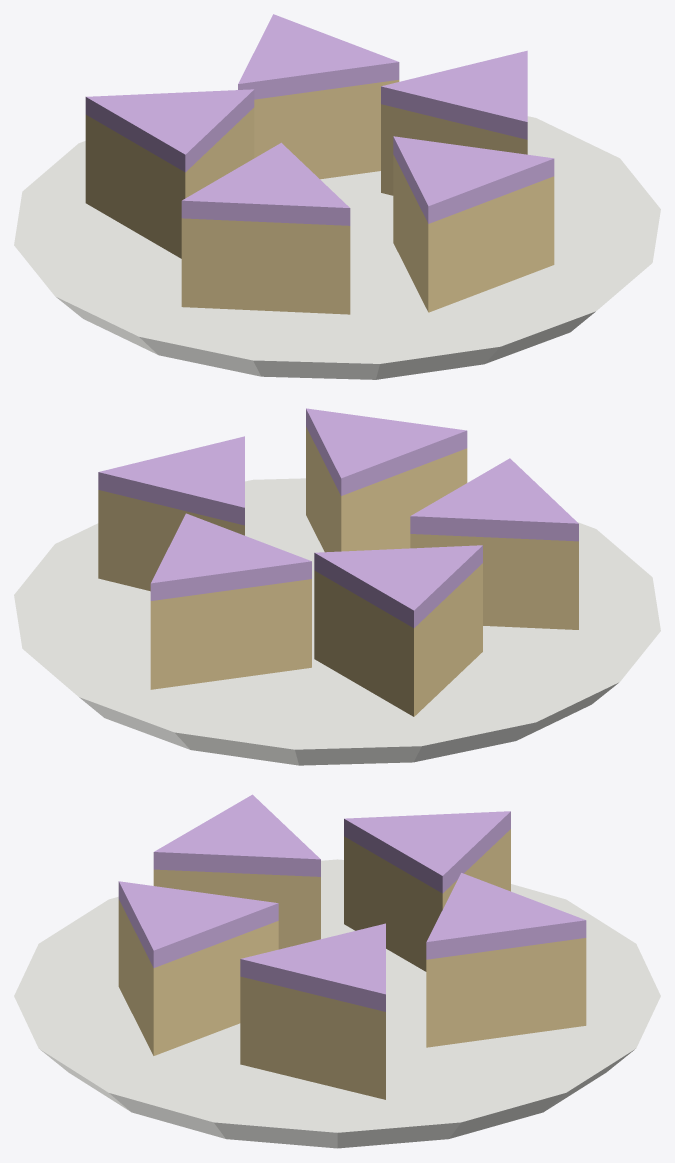
The model's file is cake_slices.glb.
The picture shows the model from 3 angles, top to bottom: view 1: azimuth 30°, elevation 25°; view 2: azimuth 150°, elevation 25°; view 3: azimuth 270°, elevation 25°; orthographic projection.
Visible parts, largest first — view 1: plate_plate_white, slice_sponge (×5), cream_frosting_lilac (×5); view 2: plate_plate_white, slice_sponge (×5), cream_frosting_lilac (×5); view 3: plate_plate_white, slice_sponge (×5), cream_frosting_lilac (×5).
Boxes of the visible parts, x1=… form: plate_plate_white: x1=14, y1=116, x2=660, y2=379; slice_sponge (×5): x1=85, y1=80, x2=554, y2=314; cream_frosting_lilac (×5): x1=85, y1=14, x2=554, y2=225; plate_plate_white: x1=14, y1=478, x2=660, y2=765; slice_sponge (×5): x1=98, y1=427, x2=578, y2=716; cream_frosting_lilac (×5): x1=98, y1=408, x2=578, y2=627; plate_plate_white: x1=14, y1=859, x2=660, y2=1148; slice_sponge (×5): x1=118, y1=829, x2=586, y2=1099; cream_frosting_lilac (×5): x1=118, y1=794, x2=586, y2=1011.
Size of the model in its own units: 0.4 by 0.092 by 0.4.
